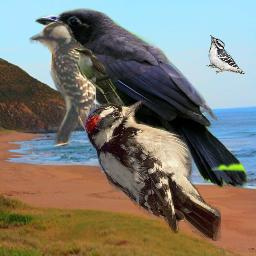Crow: (35, 8, 249, 189)
Cuckoo: (73, 47, 126, 116)
Woodpecker: (84, 100, 221, 241), (29, 21, 96, 146), (206, 35, 245, 74)
